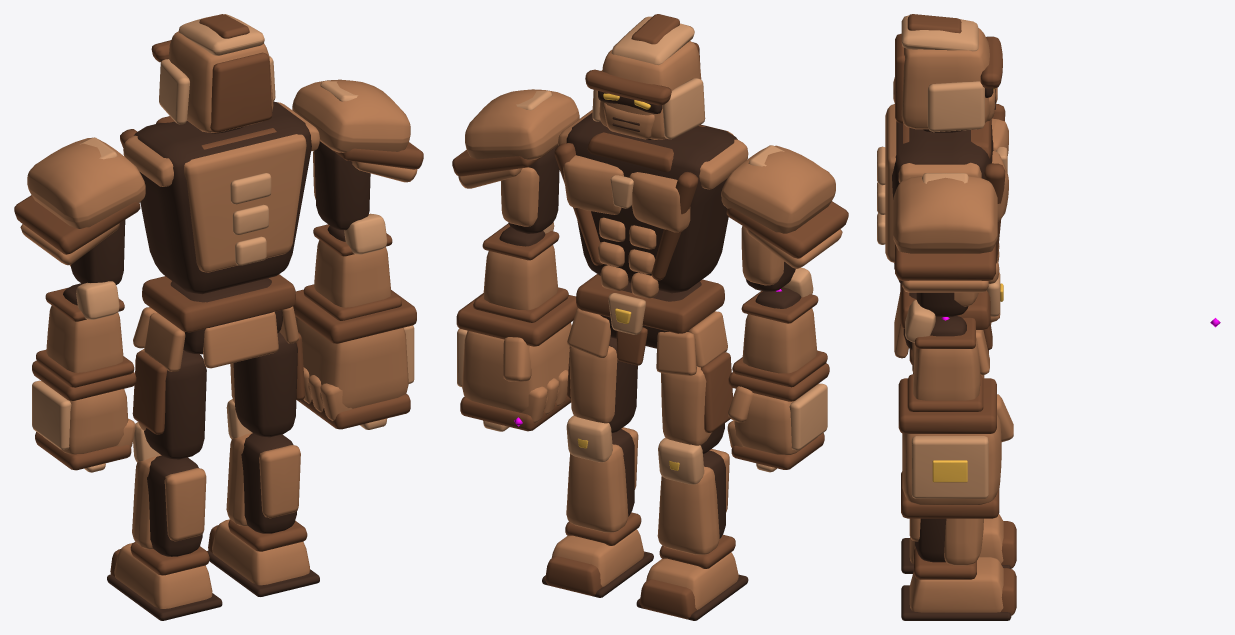
The model's file is BrickFist.obj.
3 views of the same model, side by side, from view 1: azimuth 30°, elevation 25°; view 2: azimuth 150°, elevation 25°; view 3: azimuth 270°, elevation 25° (orthographic). The views are drawn at different scales.
Parts seen in each view (by area): view 1: UpperTorso__Clay, UpperTorso__Core, LeftUpperArm__Clay, RightHand__Clay, RightUpperArm__Clay, LowerTorso__Clay, Head__Trim, RightUpperLeg__Core, RightHand__Trim, LowerTorso__Trim, LeftUpperLeg__Core, LeftLowerLeg__Clay (+30 smaller); view 2: UpperTorso__Clay, UpperTorso__Core, LeftUpperArm__Clay, RightUpperArm__Clay, RightHand__Clay, UpperTorso__Trim, LowerTorso__Trim, LowerTorso__Clay, RightLowerLeg__Clay, LeftLowerLeg__Clay, RightHand__Trim, Head__Clay (+34 smaller); view 3: RightUpperArm__Clay, RightHand__Trim, Head__ClayLight, Head__Clay, RightHand__ClayLight, RightFoot__Clay, UpperTorso__Clay, RightLowerArm__Clay, UpperTorso__Core, RightUpperArm__Trim, RightHand__Clay, Head__Trim (+15 smaller).
Boxes of the visible parts, x1,y1,x2,y2 form: UpperTorso__Clay: (123,102,319,272); UpperTorso__Core: (134,101,311,294); LeftUpperArm__Clay: (20,138,145,265); RightHand__Clay: (295,316,408,420); RightUpperArm__Clay: (292,79,417,198); LowerTorso__Clay: (133,306,298,371); Head__Trim: (151,14,272,132); RightUpperLeg__Core: (233,332,297,437); RightHand__Trim: (293,289,416,429); LowerTorso__Trim: (142,274,295,332); LeftUpperLeg__Core: (144,350,206,459); LeftLowerLeg__Clay: (132,455,206,549); UpperTorso__Clay: (558,109,748,298); UpperTorso__Core: (566,112,737,293); LeftUpperArm__Clay: (721,145,842,285); RightUpperArm__Clay: (458,89,579,226); RightHand__Clay: (462,322,571,422); UpperTorso__Trim: (554,125,705,280); LowerTorso__Trim: (576,274,724,365); LowerTorso__Clay: (567,308,727,375); RightLowerLeg__Clay: (566,427,638,532); LeftLowerLeg__Clay: (657,449,729,554); RightHand__Trim: (456,293,577,431); Head__Clay: (599,41,701,139); RightUpperArm__Clay: (893,176,997,306); RightHand__Trim: (898,378,999,518); Head__ClayLight: (901,15,984,132); Head__Clay: (901,28,995,129); RightHand__ClayLight: (911,436,988,498); RightFoot__Clay: (909,557,1003,612); UpperTorso__Clay: (885,104,1008,283); RightLowerArm__Clay: (913,338,980,400); UpperTorso__Core: (892,119,993,284); RightUpperArm__Trim: (895,243,995,280); RightHand__Clay: (902,394,1013,504); Head__Trim: (895,14,1002,123).
Bounding box in the file's own units: 4.64 × 6.93 × 3.82.
